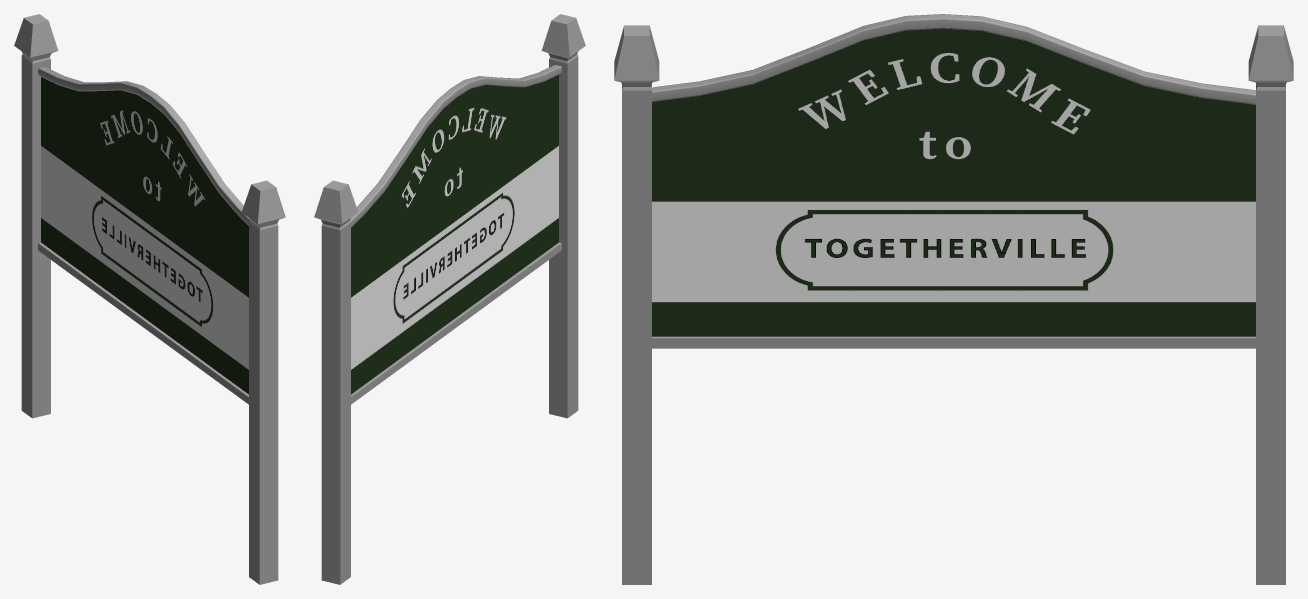
File: Sign.fbx
3 renders of one model, left to right at view 1: azimuth 30°, elevation 25°; view 2: azimuth 150°, elevation 25°; view 3: azimuth 270°, elevation 25°, orthographic. The views are drawn at different scales.
Parts seen in each view (by area): view 1: pCube5, pCube1, pCube2, pCube4, pCube3; view 2: pCube5, pCube2, pCube1, pCube4, pCube3; view 3: pCube5, pCube1, pCube2, pCube4, pCube3.
Boxes of the visible parts, x1,y1,x2,y2 form: pCube5: (41, 77, 248, 394); pCube1: (242, 180, 285, 584); pCube2: (14, 14, 58, 418); pCube4: (38, 67, 249, 225); pCube3: (38, 242, 248, 404); pCube5: (351, 75, 558, 394); pCube2: (314, 180, 357, 584); pCube1: (541, 14, 585, 418); pCube4: (350, 65, 561, 227); pCube3: (351, 242, 561, 404); pCube5: (652, 28, 1255, 336); pCube1: (614, 25, 659, 584); pCube2: (1248, 25, 1293, 584); pCube4: (652, 14, 1255, 104); pCube3: (652, 336, 1255, 348).
Size of the model in its own units: 0.2814 by 3.86 by 4.23.
